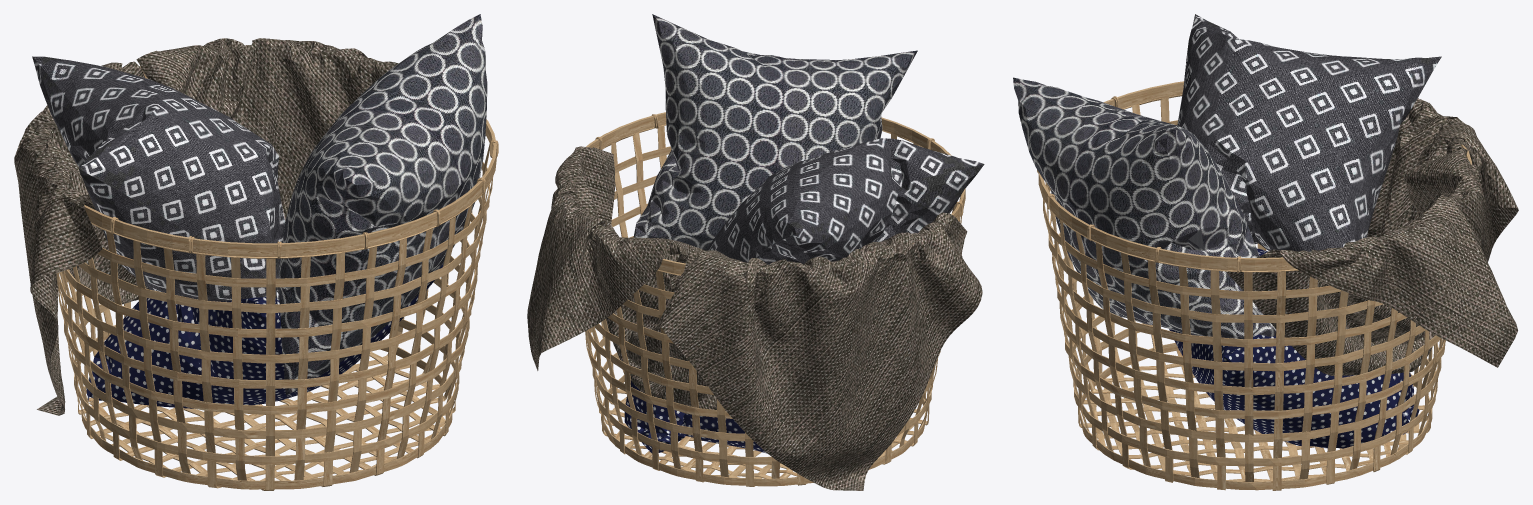
Rendered from pillows.glb.
3 renders of one model, left to right at view 1: azimuth 30°, elevation 25°; view 2: azimuth 150°, elevation 25°; view 3: azimuth 270°, elevation 25°, orthographic. The views are drawn at different scales.
Parts seen in each view (by area): view 1: Mesh3_Material__1_0, Mesh2_Material__4_0, Mesh1_Material__5_0, Mesh4_Material__2_0, Mesh5_Material__3_0; view 2: Mesh4_Material__2_0, Mesh2_Material__4_0, Mesh3_Material__1_0, Mesh1_Material__5_0, Mesh5_Material__3_0; view 3: Mesh3_Material__1_0, Mesh1_Material__5_0, Mesh4_Material__2_0, Mesh2_Material__4_0, Mesh5_Material__3_0.
Part boxes in pixels (x1,y1,x2,y2): Mesh3_Material__1_0: (47, 66, 498, 490); Mesh2_Material__4_0: (279, 14, 487, 395); Mesh1_Material__5_0: (32, 56, 285, 301); Mesh4_Material__2_0: (14, 38, 398, 415); Mesh5_Material__3_0: (86, 263, 443, 408); Mesh4_Material__2_0: (527, 146, 982, 490); Mesh2_Material__4_0: (633, 14, 917, 250); Mesh3_Material__1_0: (585, 112, 965, 486); Mesh1_Material__5_0: (706, 138, 984, 264); Mesh5_Material__3_0: (624, 380, 766, 453); Mesh3_Material__1_0: (1037, 81, 1471, 490); Mesh1_Material__5_0: (1177, 14, 1441, 251); Mesh4_Material__2_0: (1226, 98, 1518, 375); Mesh2_Material__4_0: (1013, 77, 1276, 339); Mesh5_Material__3_0: (1169, 248, 1419, 448).
Size of the model in its own units: 142 by 119 by 149.
Materials: 6 (5 with a texture image).
